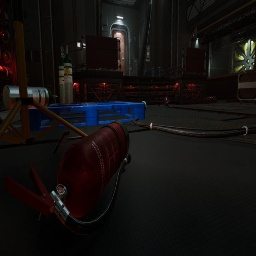0: (3, 85, 58, 110), (63, 44, 73, 104), (58, 49, 66, 104), (140, 101, 146, 111)
EmergencyPhone ,: (26, 73, 29, 82)
FireExtinguisher ]: (4, 120, 131, 235), (57, 185, 65, 194)
FirstAidBox ,: (163, 95, 170, 107)
NitrogenTank ,: (203, 96, 217, 104)
SafetySwitchPanel ,: (145, 45, 151, 62)
